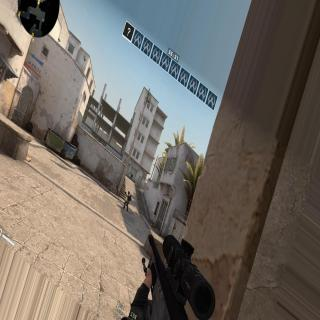CT-Body: (124, 189, 132, 208), (129, 172, 133, 180)
CT-Head: (128, 191, 130, 193), (131, 172, 133, 174)
